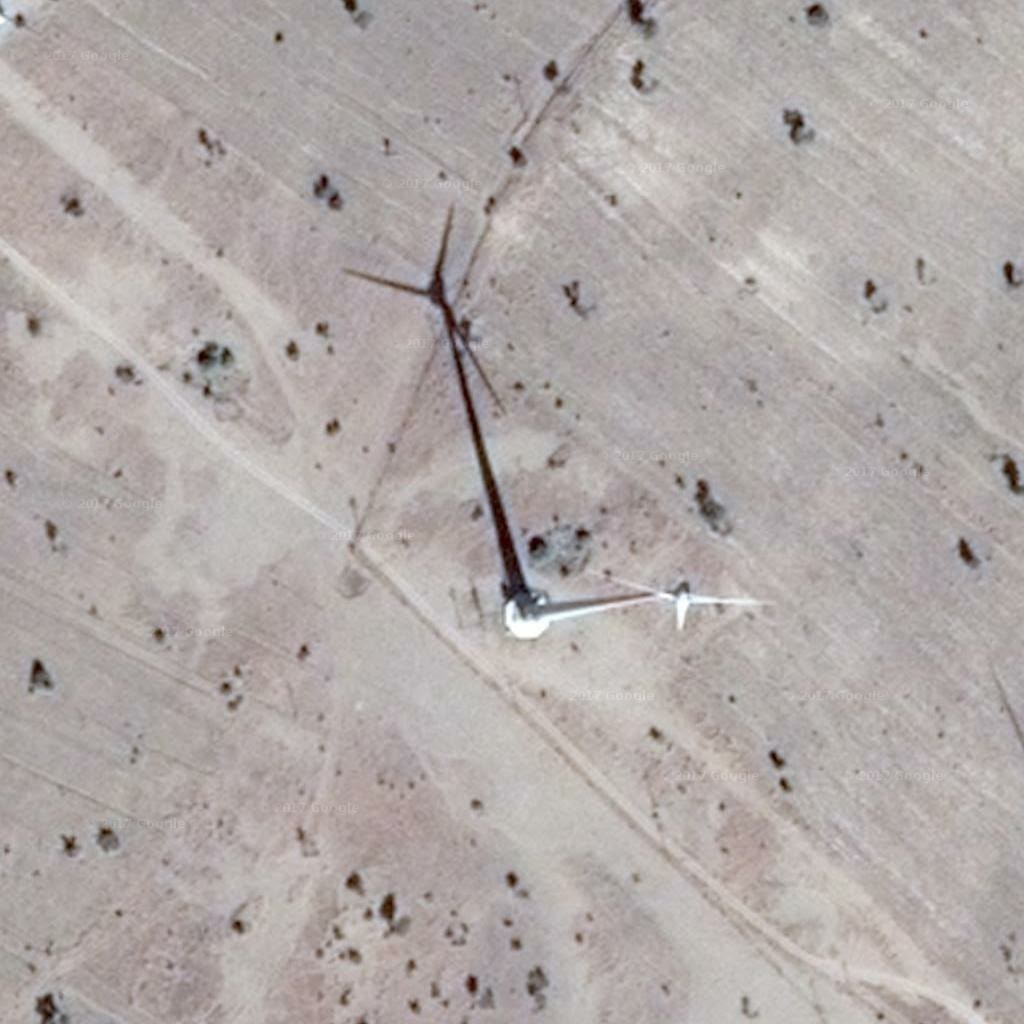Windmill: (347, 195, 550, 582)
